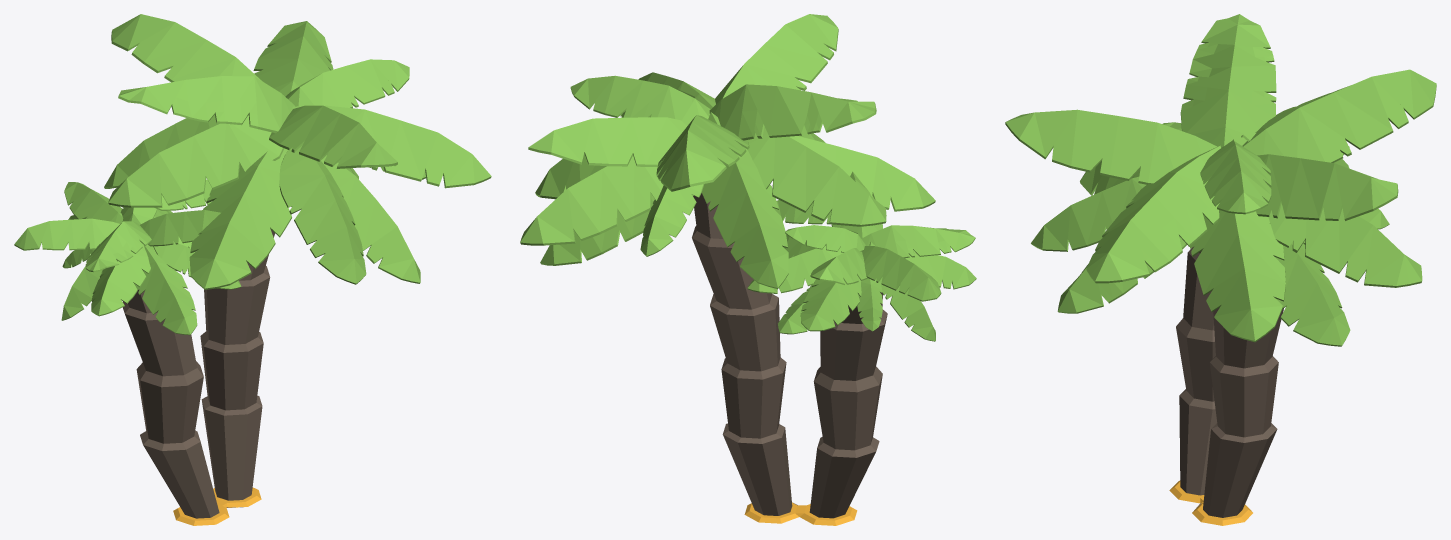
File: desert_tree_2.fbx
3 views of the same model, side by side, from view 1: azimuth 30°, elevation 25°; view 2: azimuth 150°, elevation 25°; view 3: azimuth 270°, elevation 25° (orthographic). The views are drawn at different scales.
Parts seen in each view (by area): view 1: Plane.009; view 2: Plane.009; view 3: Plane.009.
Boxes of the visible parts, x1=… form: Plane.009: x1=14, y1=14, x2=491, y2=525; Plane.009: x1=520, y1=14, x2=976, y2=525; Plane.009: x1=1005, y1=14, x2=1436, y2=525.
Size of the model in its own units: 105 by 104 by 91.16.
